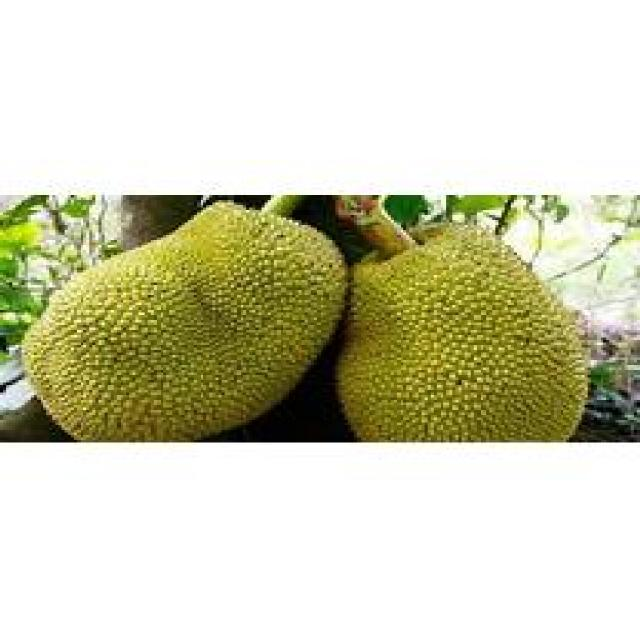Fruit: (0, 193, 366, 445), (314, 210, 615, 442)
